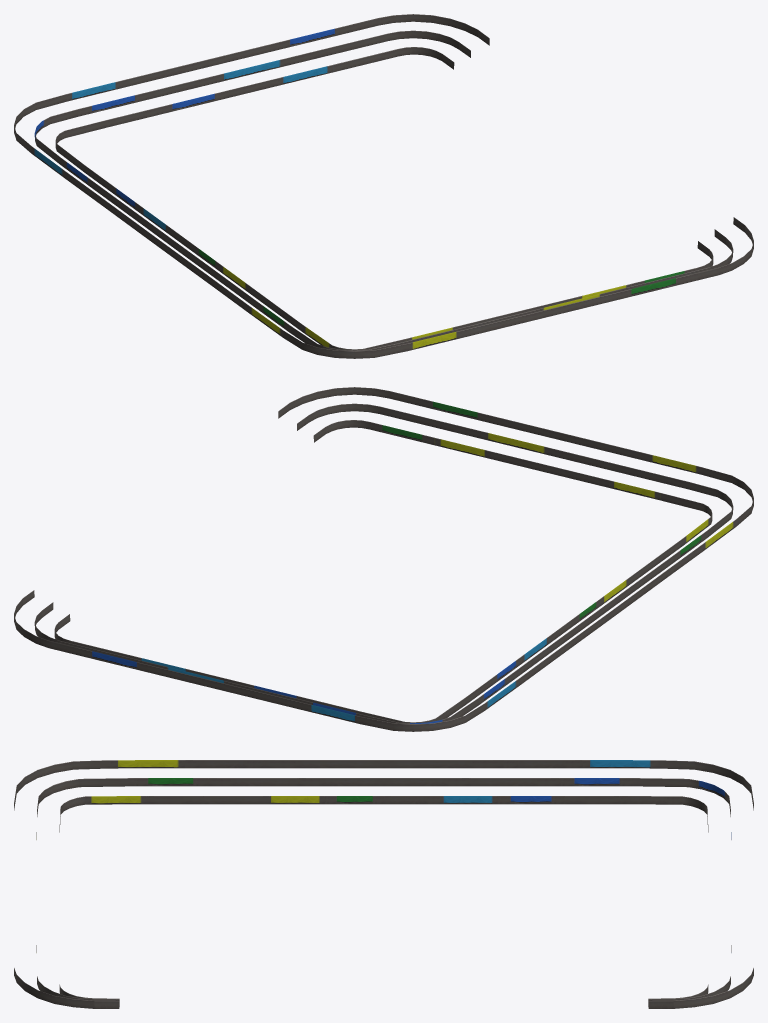
File: st_021_team_002_flag.fbx
The picture shows the model from 3 angles, top to bottom: view 1: azimuth 30°, elevation 25°; view 2: azimuth 150°, elevation 25°; view 3: azimuth 270°, elevation 25°; orthographic projection. The views are drawn at different scales.
Parts seen in each view (by area): view 1: team_flag_002_out; view 2: team_flag_002_out; view 3: team_flag_002_out.
Part boxes in pixels (box(x1,y1,x2,y2)): team_flag_002_out: box(14, 14, 753, 358); team_flag_002_out: box(14, 387, 753, 731); team_flag_002_out: box(14, 760, 753, 1008).
Bounding box in the file's own units: 112 × 5.48 × 146.
